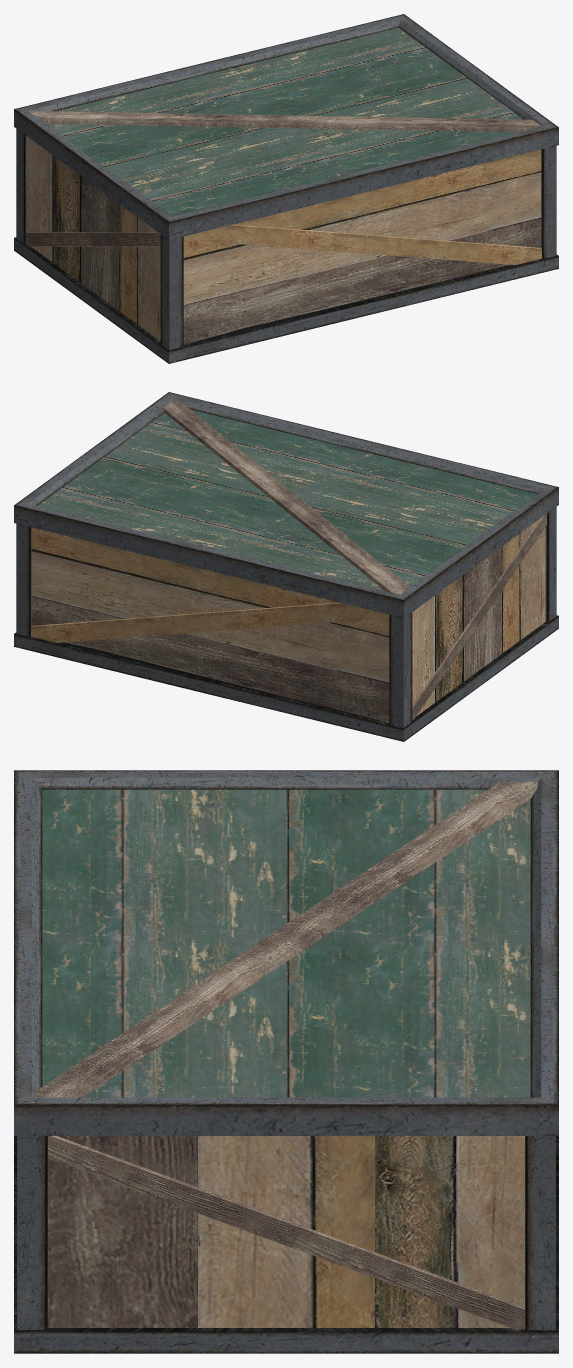
File: Prop_BcDyx01.glb
3 renders of one model, top to bottom at view 1: azimuth 30°, elevation 25°; view 2: azimuth 150°, elevation 25°; view 3: azimuth 270°, elevation 25°, orthographic. The views are drawn at different scales.
Parts seen in each view (by area): view 1: xiutz_bc_dyx_01; view 2: xiutz_bc_dyx_01; view 3: xiutz_bc_dyx_01.
Part boxes in pixels (x1=…): xiutz_bc_dyx_01: x1=14, y1=14, x2=558, y2=363; xiutz_bc_dyx_01: x1=14, y1=392, x2=558, y2=741; xiutz_bc_dyx_01: x1=14, y1=770, x2=558, y2=1353.
Size of the model in its own units: 1.18 by 0.409 by 0.812.
1 material, 1 textured.
